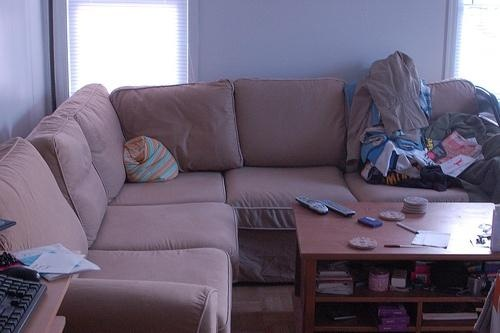sofa: (1, 76, 478, 333)
